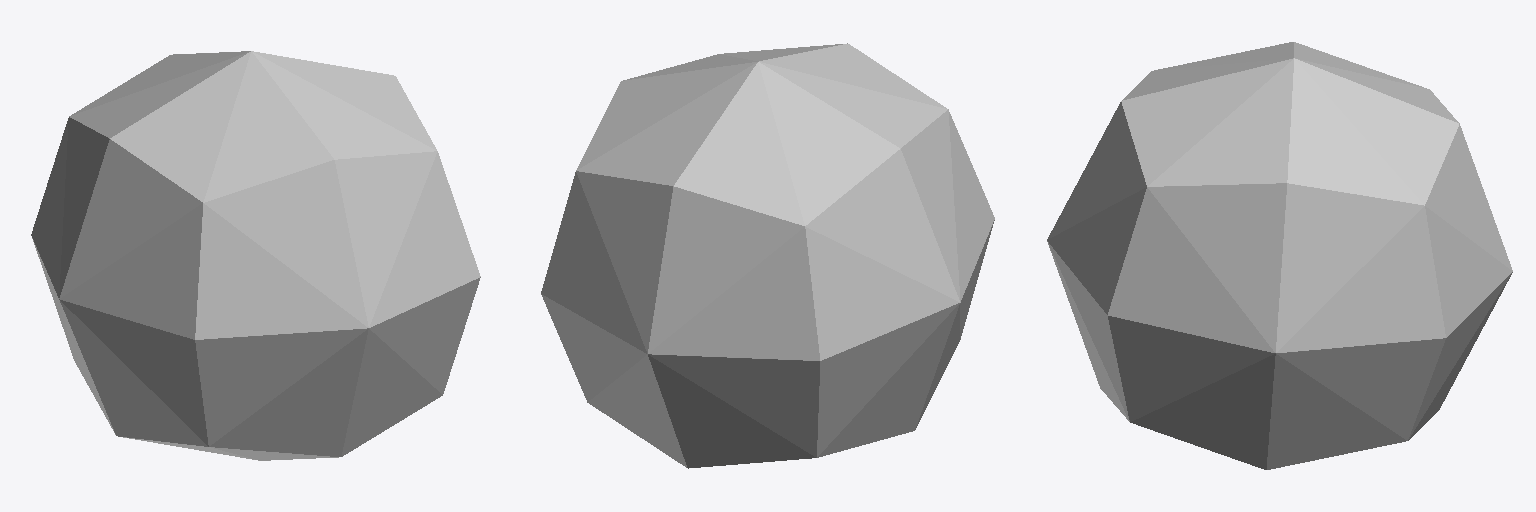
Rendered from float_Head.obj.
3 views of the same model, side by side, from view 1: azimuth 30°, elevation 25°; view 2: azimuth 150°, elevation 25°; view 3: azimuth 270°, elevation 25° (orthographic).
Parts seen in each view (by area): view 1: Cube; view 2: Cube; view 3: Cube.
Part boxes in pixels (x1,y1,x2,y2): Cube: (31, 51, 480, 460); Cube: (541, 43, 994, 468); Cube: (1047, 42, 1512, 469).
Size of the model in its own units: 2.17 by 2.12 by 2.25.